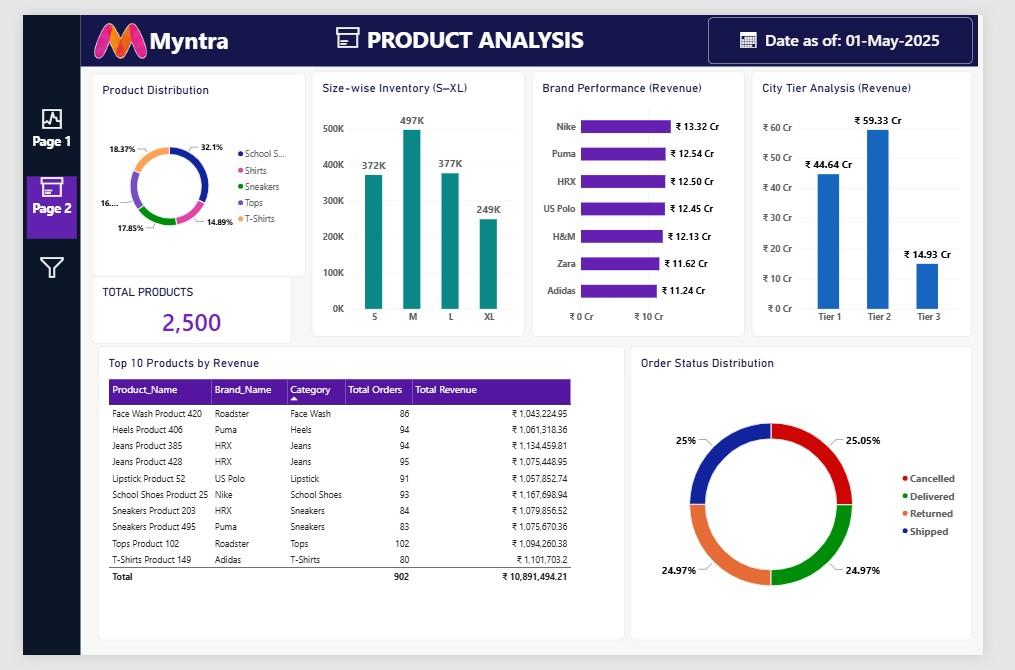

The page's visual inventory and layout, read from the dashboard file:
{"tool":"powerbi","page":{"name":"Product Analysis","canvas":[1536,1024],"ordinal":1},"visuals":[{"type":"textbox","box":[0,0,92,1024],"z":0},{"type":"textbox","box":[92,0,1436,82],"z":1000},{"type":"textbox","box":[6,150,80,100],"z":2000},{"type":"textbox","box":[6,258,80,100],"z":3000},{"type":"card","title":"TOTAL PRODUCTS","fields":{"Values":["myntra_orders_master_.Total Products"]},"box":[110,418,320,108],"z":4000},{"type":"donutChart","title":"Product Distribution","fields":{"Category":["myntra_product_catalog.Category"],"Y":["myntra_orders_master_.Total Products"]},"box":[110,94,342,324],"z":5000},{"type":"clusteredColumnChart","title":"Size-wise Inventory (S–XL)","fields":{"Category":["Inventory_Size.Size"],"Y":["myntra_orders_master_.Inventory Units"]},"box":[462,90,341,425],"z":6000},{"type":"donutChart","title":"Order Status Distribution","fields":{"Category":["myntra_orders_master_.Order_Status"],"Y":["myntra_orders_master_.Total Orders"]},"box":[971,530,546,470],"z":7000},{"type":"clusteredBarChart","title":"Brand Performance (Revenue)","fields":{"Category":["myntra_product_catalog.Brand_Name"],"Y":["myntra_orders_master_.Revenue Crore"]},"box":[814,90,341,425],"z":8000},{"type":"tableEx","title":"Top 10 Products by Revenue","fields":{"Values":["myntra_product_catalog.Product_Name","myntra_product_catalog.Brand_Name","myntra_product_catalog.Category","myntra_orders_master_.Total Orders","myntra_orders_master_.Total Revenue"]},"box":[119,530,842,470],"z":9000},{"type":"clusteredColumnChart","title":"City Tier Analysis (Revenue)","fields":{"Category":["myntra_orders_master_.City_Tier"],"Y":["myntra_orders_master_.Revenue Crore"]},"box":[1166,90,352,425],"z":10000},{"type":"card","title":"DATA AS OF","fields":{"Values":["myntra_orders_master_.Data As Of"]},"box":[1095,4,423,74],"z":11000},{"type":"textbox","box":[490,15,60,55],"z":12000},{"type":"textbox","box":[12,385,68,65],"z":13000},{"type":"image","box":[110,10,92,62],"z":14000},{"type":"textbox","box":[202,13,180,60],"z":15000},{"type":"textbox","box":[550,13,540,60],"z":16000},{"type":"actionButton","box":[6,150,80,100],"z":17000},{"type":"actionButton","box":[6,258,80,100],"z":18000}]}

Visuals, with their boxes on the page's 1536x1024 design canvas (x1, y1, x2, y2). These are canvas units, not pixel positions in the 1015x670 screenshot, which may show the page scaled, cropped or inside an application window:
textbox: Rect(0, 0, 92, 1024)
textbox: Rect(92, 0, 1528, 82)
textbox: Rect(6, 150, 86, 250)
textbox: Rect(6, 258, 86, 358)
"TOTAL PRODUCTS" card: Rect(110, 418, 430, 526)
"Product Distribution" donutChart: Rect(110, 94, 452, 418)
"Size-wise Inventory (S–XL)" clusteredColumnChart: Rect(462, 90, 803, 515)
"Order Status Distribution" donutChart: Rect(971, 530, 1517, 1000)
"Brand Performance (Revenue)" clusteredBarChart: Rect(814, 90, 1155, 515)
"Top 10 Products by Revenue" tableEx: Rect(119, 530, 961, 1000)
"City Tier Analysis (Revenue)" clusteredColumnChart: Rect(1166, 90, 1518, 515)
"DATA AS OF" card: Rect(1095, 4, 1518, 78)
textbox: Rect(490, 15, 550, 70)
textbox: Rect(12, 385, 80, 450)
image: Rect(110, 10, 202, 72)
textbox: Rect(202, 13, 382, 73)
textbox: Rect(550, 13, 1090, 73)
actionButton: Rect(6, 150, 86, 250)
actionButton: Rect(6, 258, 86, 358)
